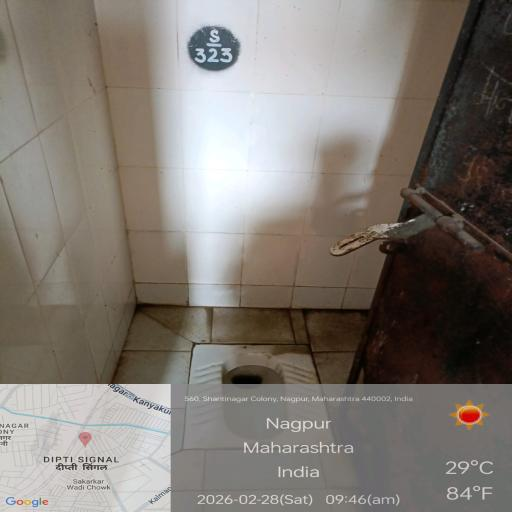clean_floor: (0, 5, 423, 299)
partial_dirty_floor: (102, 292, 366, 386)
partial_dirty_indian: (189, 345, 316, 383)
